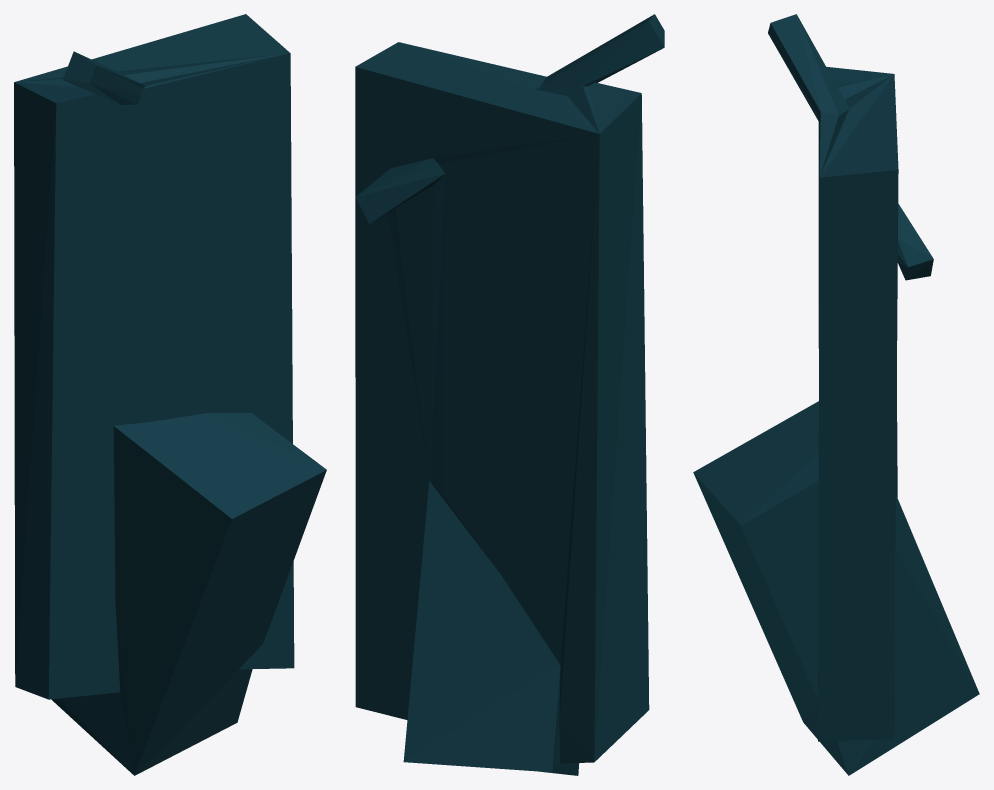
3 views of the same model, side by side, from view 1: azimuth 30°, elevation 25°; view 2: azimuth 150°, elevation 25°; view 3: azimuth 270°, elevation 25° (orthographic). The views are drawn at different scales.
Parts seen in each view (by area): view 1: 337_Cube.1377; view 2: 337_Cube.1377; view 3: 337_Cube.1377.
Part boxes in pixels (box(x1,y1,x2,y2)): 337_Cube.1377: box(14, 14, 326, 775); 337_Cube.1377: box(355, 14, 664, 775); 337_Cube.1377: box(693, 14, 979, 775).
Bounding box in the file's own units: 5.03 × 14.54 × 5.56.
